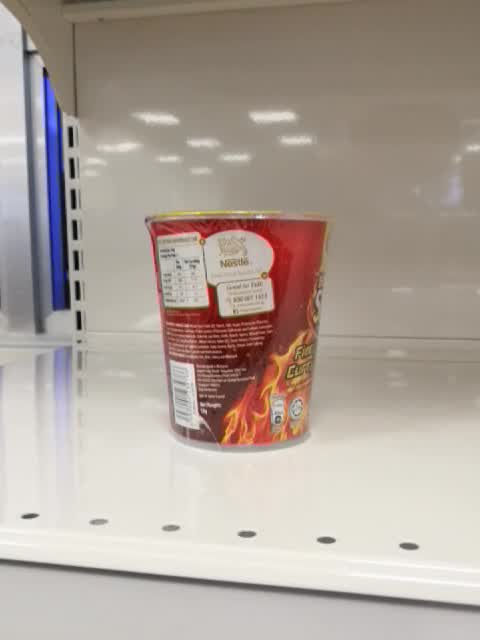maggi: (142, 208, 333, 452)
